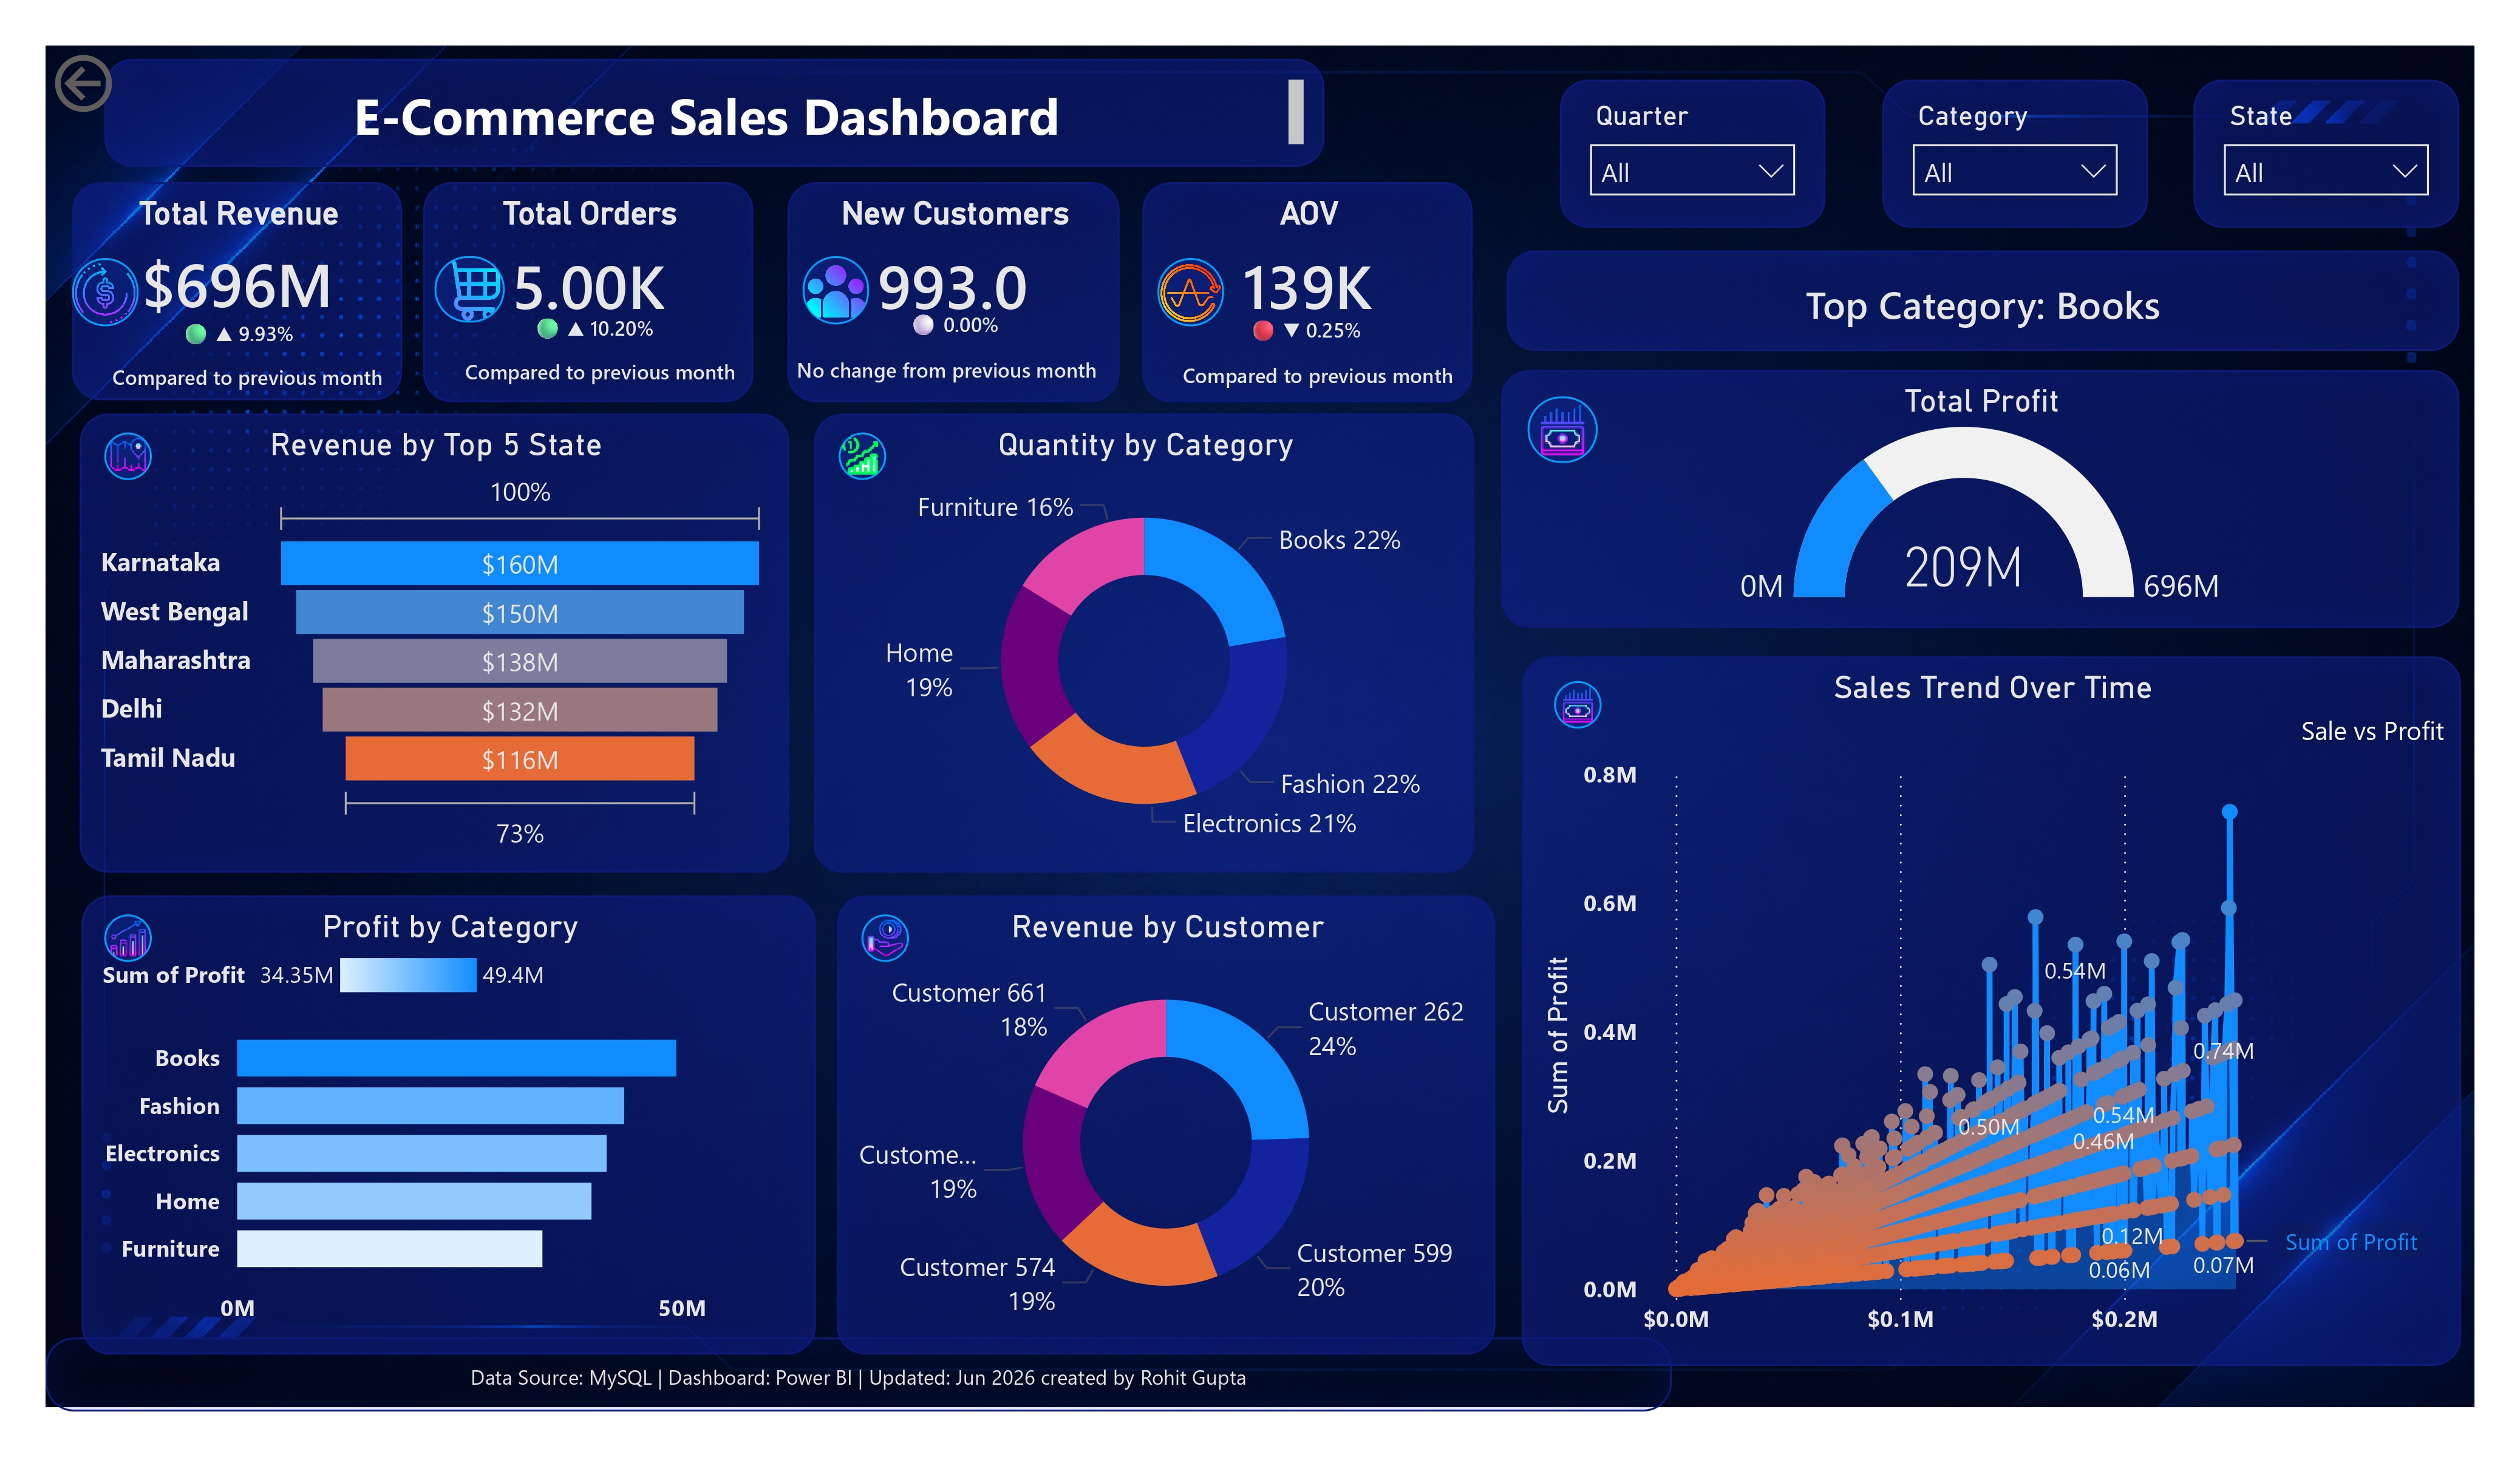

This screenshot's page, from the dashboard's own definition file:
{"tool":"powerbi","page":{"name":"Dashboard-overview","canvas":[1280,720],"ordinal":0},"visuals":[{"type":"gauge","title":"Total  Profit","fields":{"Y":["Sum(OrderDetails.Line Profit)"]},"box":[767.2,170.7,505.2,136.2],"z":0},{"type":"barChart","title":"Profit by Category","fields":{"Category":["Products.Category"],"Y":["Sum(OrderDetails.Profit)"]},"box":[18.6,448.1,387.1,241.4],"z":1000},{"type":"donutChart","title":"Quantity by Category","fields":{"Category":["Products.Category"],"Y":["Sum(OrderDetails.Quantity)"]},"box":[405,194.1,348.3,241.7],"z":2000},{"type":"donutChart","title":"Revenue by Customer","fields":{"Category":["Customers.CustomerName"],"Y":["Sum(OrderDetails.Line Revenue)"]},"box":[417.1,448.1,347.1,241.4],"z":3000},{"type":"funnel","title":"Revenue by Top 5 State","fields":{"Category":["Customers.State"],"Y":["Sum(OrderDetails.Line Revenue)"]},"box":[18.3,194.1,373.3,241.7],"z":4000},{"type":"slicer","fields":{"Values":["Products.Category"]},"box":[968.3,18.3,140,77.5],"z":5000},{"type":"stackedAreaChart","title":"Sales Trend Over Time ","fields":{"Category":["OrderDetails.Revenue"],"Y":["Sum(OrderDetails.Profit)"]},"box":[777.6,322.4,494.8,374.1],"z":5000,"group":"g1"},{"type":"slicer","fields":{"Values":["Customers.State"]},"box":[1131.7,18.3,140,77.5],"z":6000},{"type":"cardVisual","title":"Total Revenue","fields":{"Data":["Sum(OrderDetails.Revenue)"]},"box":[14,72,174,115],"z":7000},{"type":"cardVisual","title":"Total Orders","fields":{"Data":["All Measures.Total Orders"]},"box":[198.9,72.2,174.4,115.6],"z":8000},{"type":"cardVisual","title":"New Customers","fields":{"Data":["Customers Measures.New Customers"]},"box":[391.1,72.2,174.4,115.6],"z":9000},{"type":"cardVisual","title":"AOV","fields":{"Data":["All Measures.AOV"]},"box":[577.8,72.2,174.4,115.6],"z":10000},{"type":"textbox","box":[31.4,7.1,642.9,57.1],"z":11000},{"type":"slicer","fields":{"Values":["DateTable.Quarter"]},"box":[798.3,18.3,140,77.5],"z":12000},{"type":"cardVisual","fields":{"Data":["All Measures.Top Category"]},"box":[770,107.8,502.2,53.3],"z":13000},{"type":"cardVisual","fields":{"Data":["All Measures.Revenue Trend"]},"box":[51.8,138.2,99.1,24.5],"z":14000},{"type":"cardVisual","fields":{"Data":["All Measures.Revenue Trend Note"]},"box":[14.2,161.7,185,23.3],"z":15000},{"type":"cardVisual","fields":{"Data":["Total Oders Measures.Orders Trend %"]},"box":[239.1,135.5,100.9,24.5],"z":16000},{"type":"cardVisual","fields":{"Data":["Total Oders Measures.Orders Trend Note"]},"box":[199.2,159.2,187.5,23.3],"z":17000},{"type":"cardVisual","fields":{"Data":["Active Customers.Customers Trend %"]},"box":[429.7,134.2,98.5,23.8],"z":18000},{"type":"cardVisual","fields":{"Data":["Active Customers.New Customer Trend Note"]},"box":[373.3,157.5,204.2,23.3],"z":19000},{"type":"cardVisual","fields":{"Data":["AOV Measure.AOV Trend %"]},"box":[615.2,137.1,98.5,23.8],"z":20000},{"type":"cardVisual","fields":{"Data":["AOV Measure.AOV Trend Note"]},"box":[577.5,160,185,24.2],"z":21000},{"type":"image","box":[398.9,111.1,35.6,35.6],"z":22000},{"type":"image","box":[205.5,110.9,36.4,35.5],"z":23000},{"type":"image","box":[13.6,111.8,35.5,36.4],"z":24000},{"type":"image","box":[585.6,112.2,35.6,35.6],"z":25000},{"type":"image","box":[30.8,204.2,25,25],"z":26000},{"type":"image","box":[781.2,185,36.2,35],"z":27000},{"type":"image","box":[417.5,204.2,25,25],"z":28000},{"type":"image","box":[430,457.5,25,25],"z":29000},{"type":"image","box":[30.8,457.5,25,25],"z":30000},{"type":"actionButton","box":[0,0,100,40],"z":31000},{"type":"group","id":"g1","title":"Group 1","box":[777.6,322.4,494.8,374.1],"z":32000},{"type":"image","box":[794.6,335.4,25,25],"z":32000,"group":"g1"},{"type":"textbox","box":[0,681.4,857.1,38.6],"z":33000}]}

Visuals, with their boxes on the page's 1280x720 design canvas (x1, y1, x2, y2). These are canvas units, not pixel positions in the 2520x1457 screenshot, which may show the page scaled, cropped or inside an application window:
"Total  Profit" gauge: <bbox>767, 171, 1272, 307</bbox>
"Profit by Category" barChart: <bbox>19, 448, 406, 690</bbox>
"Quantity by Category" donutChart: <bbox>405, 194, 753, 436</bbox>
"Revenue by Customer" donutChart: <bbox>417, 448, 764, 690</bbox>
"Revenue by Top 5 State" funnel: <bbox>18, 194, 392, 436</bbox>
slicer - Products.Category: <bbox>968, 18, 1108, 96</bbox>
"Sales Trend Over Time " stackedAreaChart: <bbox>778, 322, 1272, 696</bbox>
slicer - Customers.State: <bbox>1132, 18, 1272, 96</bbox>
"Total Revenue" cardVisual: <bbox>14, 72, 188, 187</bbox>
"Total Orders" cardVisual: <bbox>199, 72, 373, 188</bbox>
"New Customers" cardVisual: <bbox>391, 72, 566, 188</bbox>
"AOV" cardVisual: <bbox>578, 72, 752, 188</bbox>
textbox: <bbox>31, 7, 674, 64</bbox>
slicer - DateTable.Quarter: <bbox>798, 18, 938, 96</bbox>
cardVisual - All Measures.Top Category: <bbox>770, 108, 1272, 161</bbox>
cardVisual - All Measures.Revenue Trend: <bbox>52, 138, 151, 163</bbox>
cardVisual - All Measures.Revenue Trend Note: <bbox>14, 162, 199, 185</bbox>
cardVisual - Total Oders Measures.Orders Trend %: <bbox>239, 136, 340, 160</bbox>
cardVisual - Total Oders Measures.Orders Trend Note: <bbox>199, 159, 387, 182</bbox>
cardVisual - Active Customers.Customers Trend %: <bbox>430, 134, 528, 158</bbox>
cardVisual - Active Customers.New Customer Trend Note: <bbox>373, 158, 578, 181</bbox>
cardVisual - AOV Measure.AOV Trend %: <bbox>615, 137, 714, 161</bbox>
cardVisual - AOV Measure.AOV Trend Note: <bbox>578, 160, 762, 184</bbox>
image: <bbox>399, 111, 434, 147</bbox>
image: <bbox>206, 111, 242, 146</bbox>
image: <bbox>14, 112, 49, 148</bbox>
image: <bbox>586, 112, 621, 148</bbox>
image: <bbox>31, 204, 56, 229</bbox>
image: <bbox>781, 185, 817, 220</bbox>
image: <bbox>418, 204, 442, 229</bbox>
image: <bbox>430, 458, 455, 482</bbox>
image: <bbox>31, 458, 56, 482</bbox>
actionButton: <bbox>0, 0, 100, 40</bbox>
"Group 1" group: <bbox>778, 322, 1272, 696</bbox>
image: <bbox>795, 335, 820, 360</bbox>
textbox: <bbox>0, 681, 857, 720</bbox>
